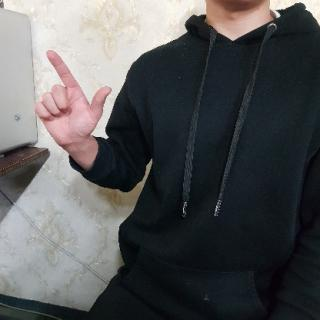LAAM: (32, 46, 111, 152)
